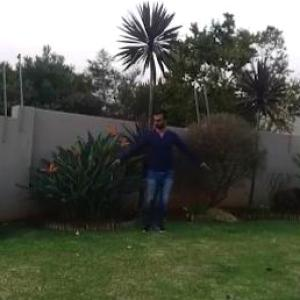land: (104, 101, 215, 243)
